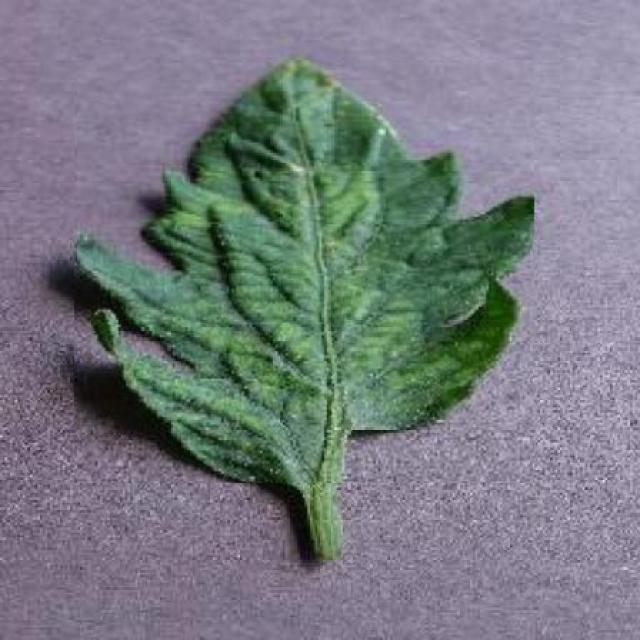Mosaic Virus: (75, 60, 535, 483)
